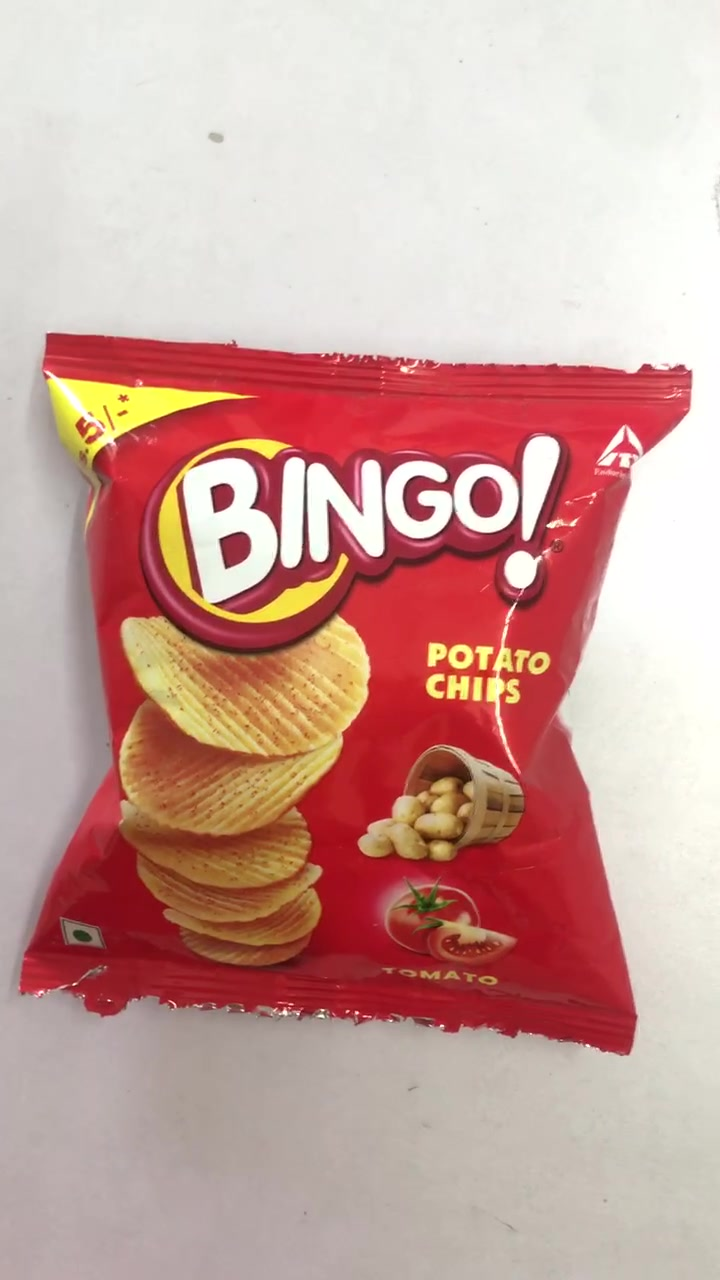Bingo: (44, 341, 691, 1050)
